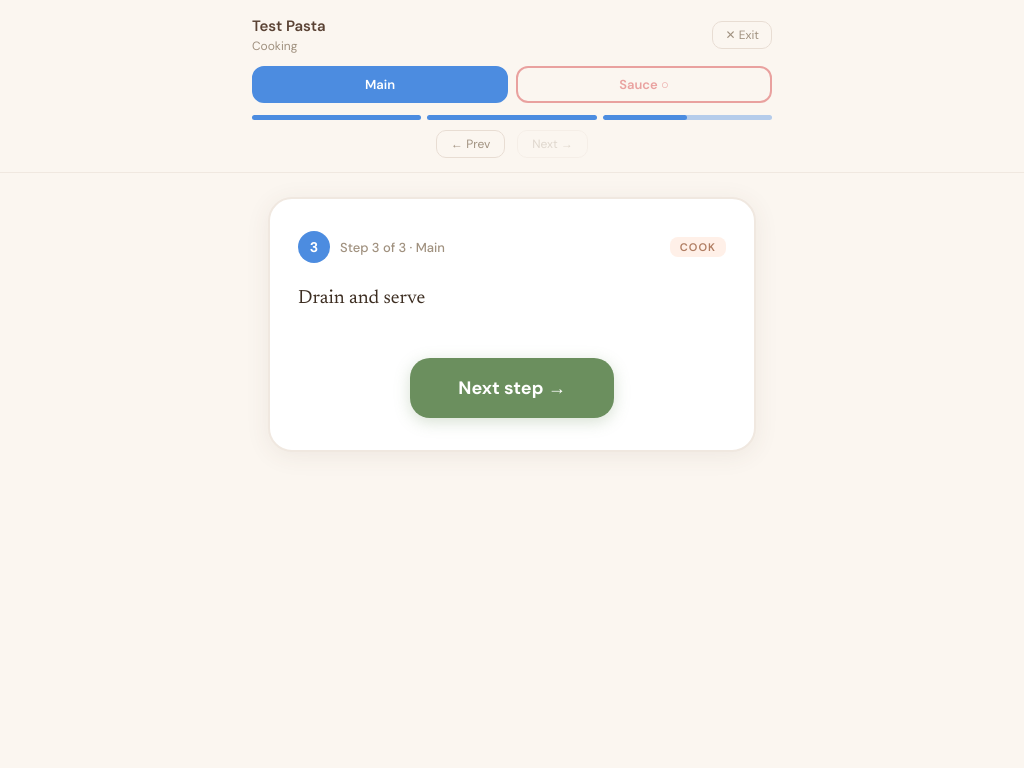
Scenario: CookingView › step review navigation › clicking Prev shows previous step content
Expected: the text "Drain and serve" is shown, [298,289,425,308]
Click the button "← Prev": (471,144) [436,130,505,158]
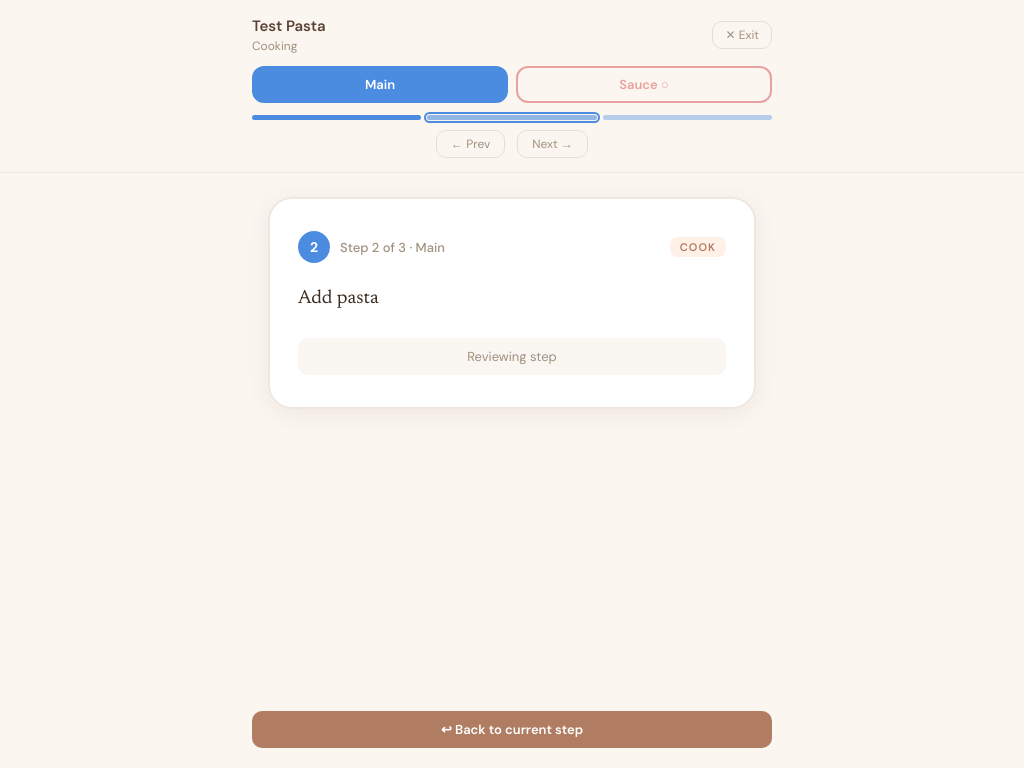
Now the text "Add pasta" is shown, box [298,289,379,308]
